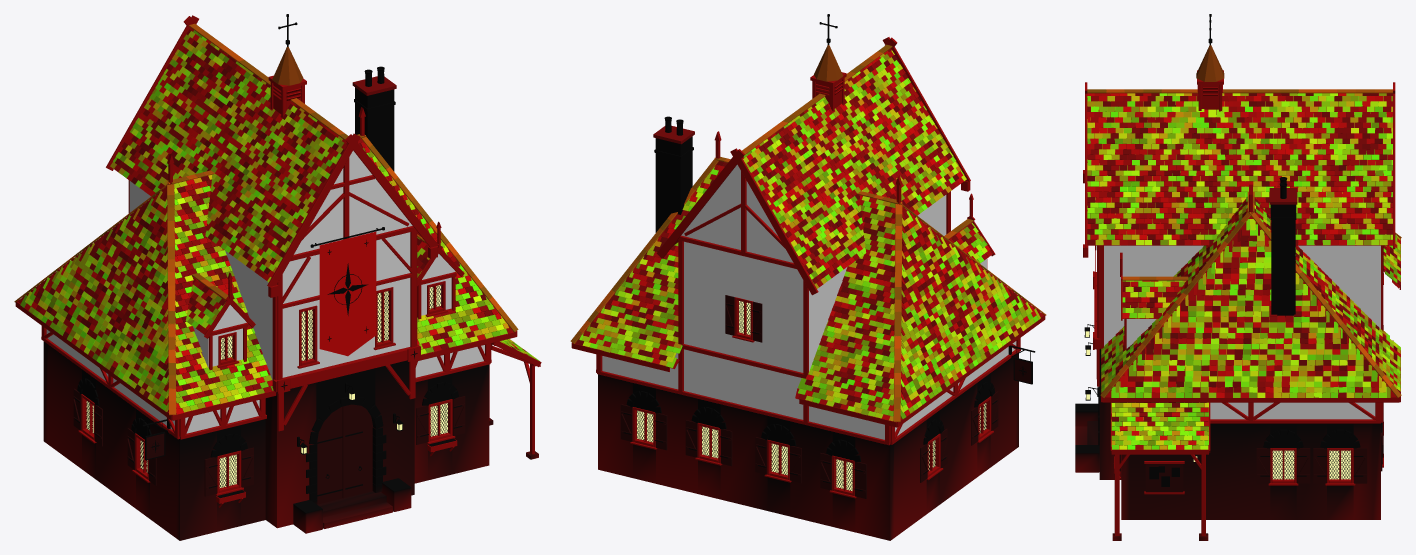
Rendered from SilverbrookAdventurersGuild.fbx.
3 views of the same model, side by side, from view 1: azimuth 30°, elevation 25°; view 2: azimuth 150°, elevation 25°; view 3: azimuth 270°, elevation 25° (orthographic). The views are drawn at different scales.
Visible parts, largest first — view 1: SM_SBAdventurersGuild_Roof, SM_SBAdventurersGuild_Masonry, SM_SBAdventurersGuild_Timber, SM_SBAdventurersGuild_Details, SM_SBAdventurersGuild_Plaster; view 2: SM_SBAdventurersGuild_Roof, SM_SBAdventurersGuild_Masonry, SM_SBAdventurersGuild_Plaster, SM_SBAdventurersGuild_Timber, SM_SBAdventurersGuild_Details; view 3: SM_SBAdventurersGuild_Roof, SM_SBAdventurersGuild_Masonry, SM_SBAdventurersGuild_Timber, SM_SBAdventurersGuild_Plaster, SM_SBAdventurersGuild_Details.
Boxes of the visible parts, <box> form: SM_SBAdventurersGuild_Roof: <box>14,23,539,415</box>; SM_SBAdventurersGuild_Masonry: <box>43,76,538,540</box>; SM_SBAdventurersGuild_Timber: <box>15,15,541,507</box>; SM_SBAdventurersGuild_Details: <box>73,14,465,504</box>; SM_SBAdventurersGuild_Plaster: <box>46,150,484,433</box>; SM_SBAdventurersGuild_Roof: <box>570,44,1046,422</box>; SM_SBAdventurersGuild_Masonry: <box>598,125,1018,540</box>; SM_SBAdventurersGuild_Plaster: <box>602,164,1016,439</box>; SM_SBAdventurersGuild_Timber: <box>571,37,1045,498</box>; SM_SBAdventurersGuild_Details: <box>620,14,1035,498</box>; SM_SBAdventurersGuild_Roof: <box>1087,45,1401,449</box>; SM_SBAdventurersGuild_Masonry: <box>1075,188,1382,540</box>; SM_SBAdventurersGuild_Timber: <box>1083,70,1400,535</box>; SM_SBAdventurersGuild_Plaster: <box>1104,245,1380,419</box>; SM_SBAdventurersGuild_Details: <box>1084,14,1383,486</box>.
Size of the model in its own units: 1561 by 1768 by 1207.
